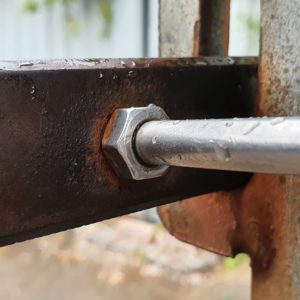bolt_b: (101, 102, 178, 184)
